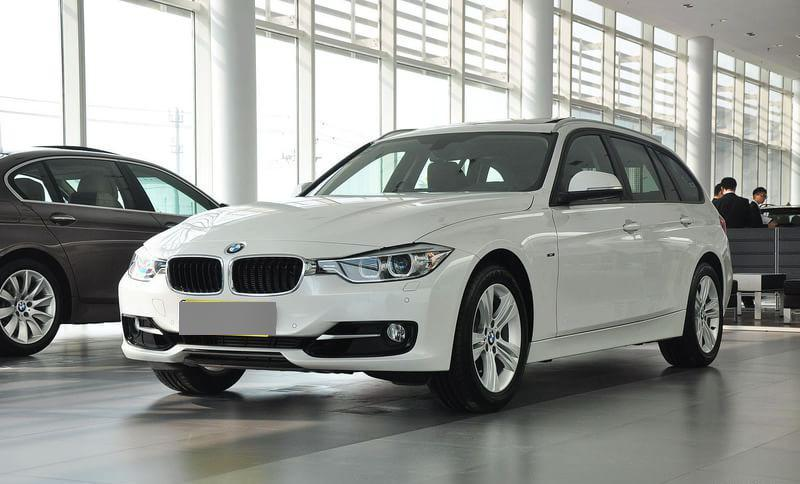Wagon: (116, 115, 734, 414)
